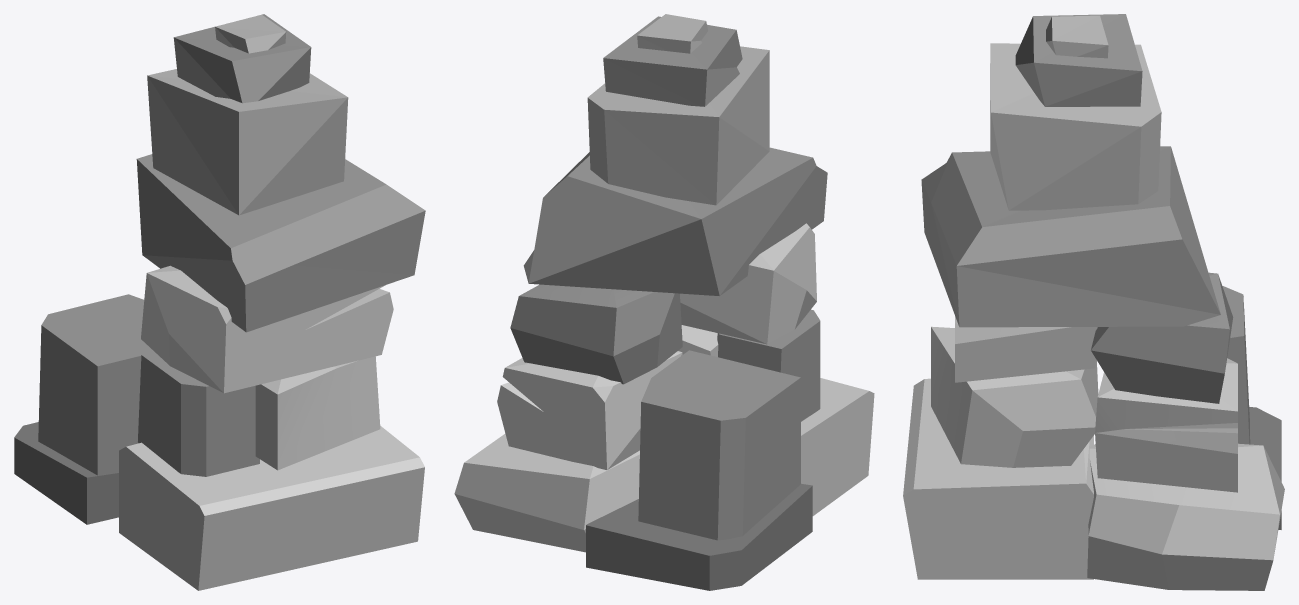
Rendered from EA03_Fence_Cobble_End_01a.glb.
The picture shows the model from 3 angles, left to right: view 1: azimuth 30°, elevation 25°; view 2: azimuth 150°, elevation 25°; view 3: azimuth 270°, elevation 25°; orthographic projection. The views are drawn at different scales.
Visible parts, largest first — view 1: EA03_Fence_Cobble_End_01a; view 2: EA03_Fence_Cobble_End_01a; view 3: EA03_Fence_Cobble_End_01a.
Part boxes in pixels (x1,y1,x2,y2): EA03_Fence_Cobble_End_01a: (14, 14, 425, 590); EA03_Fence_Cobble_End_01a: (454, 14, 874, 590); EA03_Fence_Cobble_End_01a: (903, 14, 1284, 590).
Size of the model in its own units: 1.42 by 2.3 by 1.56.
1 material, 1 textured.
